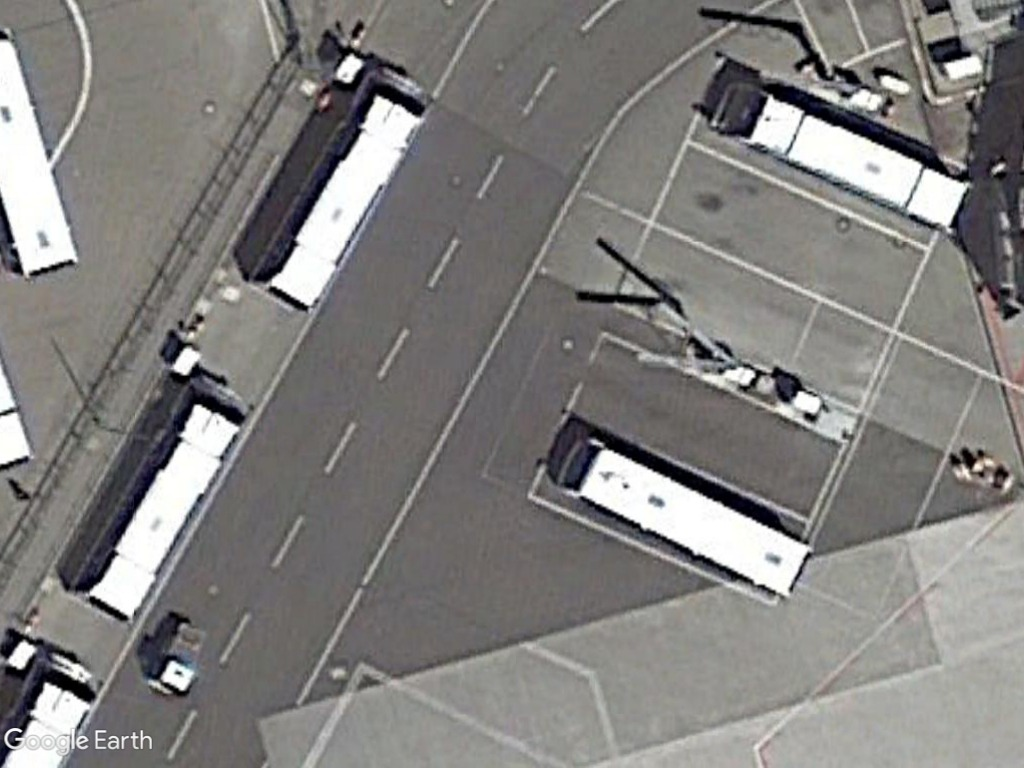bus: (554, 430, 816, 604), (249, 73, 431, 318), (76, 383, 253, 628), (704, 76, 971, 232)
